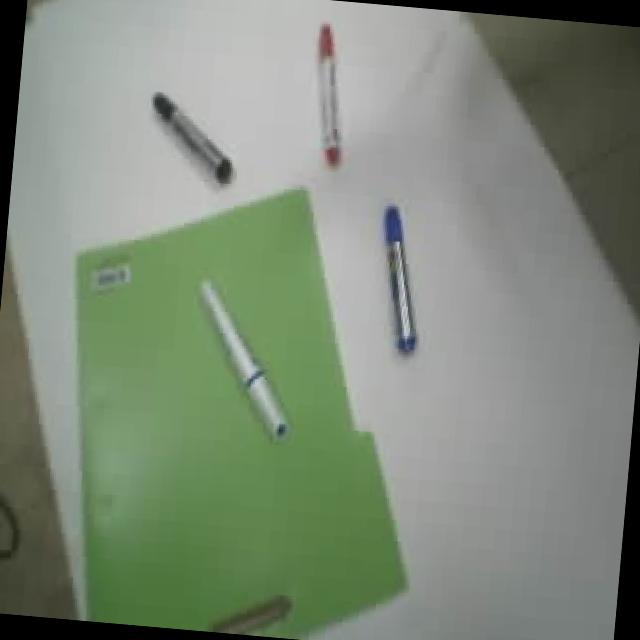board-marker: (193, 274, 296, 449), (149, 83, 237, 196), (380, 200, 423, 361), (315, 19, 344, 176)
